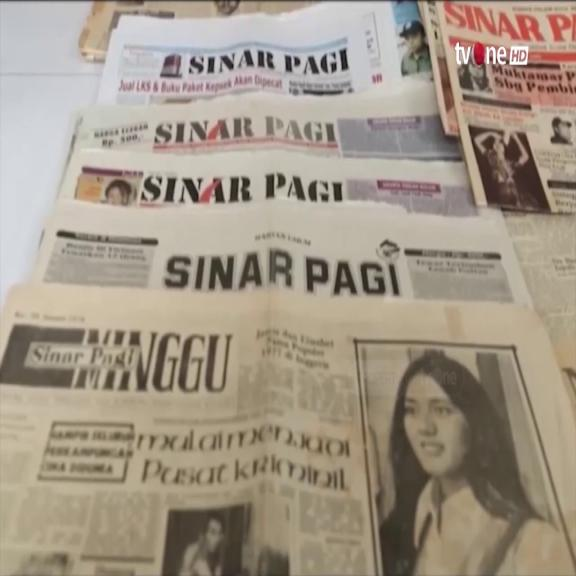Kertas: (0, 278, 384, 572), (99, 5, 416, 108)
